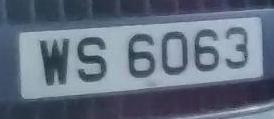0: (158, 26, 193, 81)
3: (222, 21, 254, 78)
6: (123, 26, 161, 86), (190, 25, 224, 78)
S: (73, 31, 114, 89)
W: (35, 34, 74, 92)
